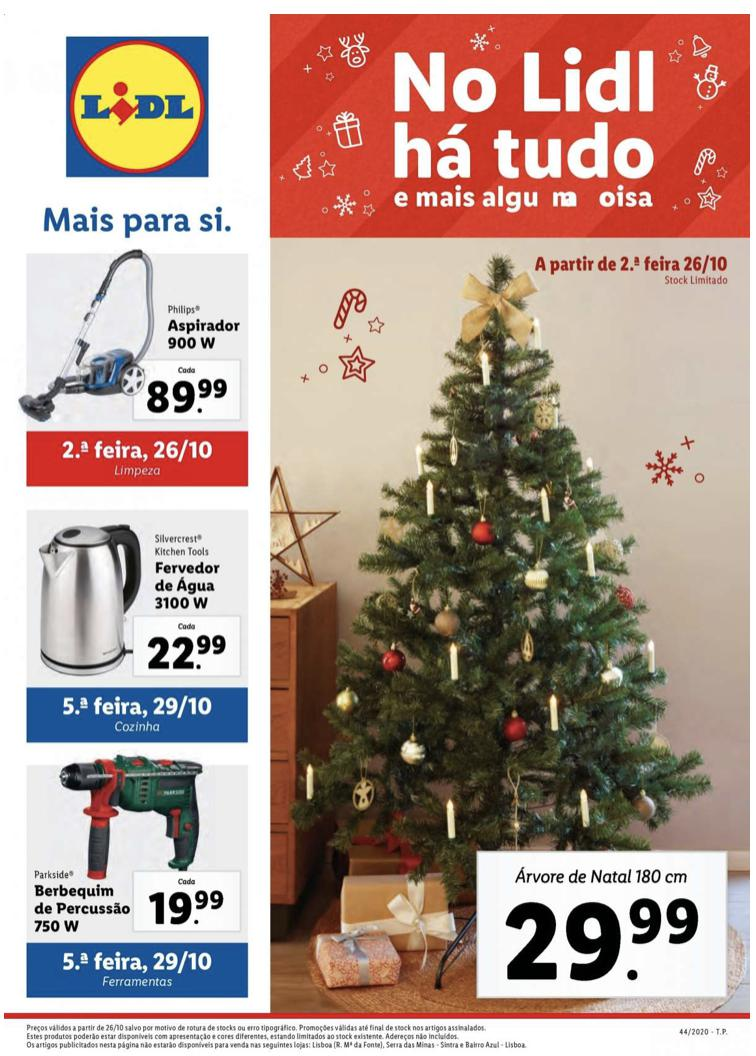name: (32, 882, 132, 934), (150, 557, 222, 612), (165, 316, 246, 357)
price: (503, 887, 704, 990), (145, 632, 236, 674), (147, 377, 234, 420), (143, 888, 232, 925)
product: (292, 245, 741, 1009), (26, 753, 257, 944), (11, 245, 250, 425), (18, 503, 254, 684)
